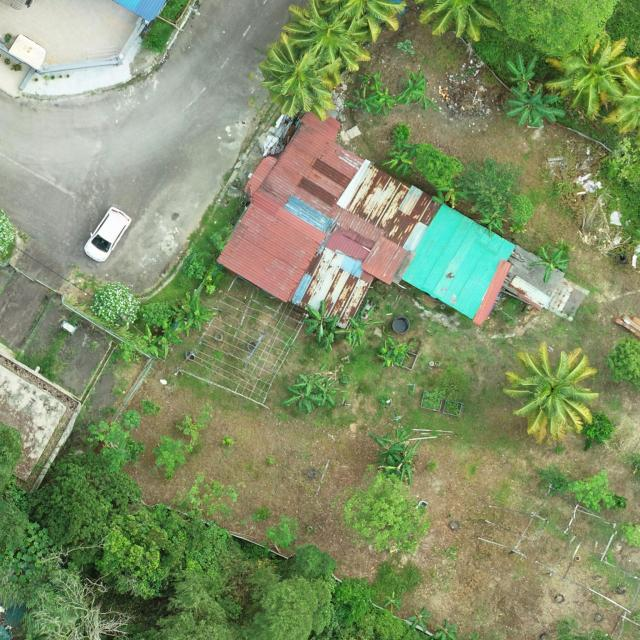Tree: (0, 532, 141, 640), (148, 565, 334, 640), (27, 450, 141, 566), (502, 341, 600, 446), (94, 502, 188, 600), (545, 31, 639, 119), (489, 0, 622, 58), (259, 31, 343, 122), (343, 470, 432, 552), (281, 0, 375, 70), (454, 156, 525, 213), (318, 0, 408, 44), (413, 0, 505, 42), (333, 606, 438, 640), (186, 514, 245, 574), (170, 474, 238, 521), (368, 428, 423, 484), (598, 64, 640, 135), (86, 419, 146, 468), (507, 83, 566, 128), (413, 142, 466, 188), (334, 574, 379, 628), (278, 544, 337, 584), (90, 282, 142, 326), (334, 302, 384, 347), (567, 469, 618, 513), (175, 288, 218, 337), (395, 68, 440, 112), (152, 435, 187, 481), (529, 245, 571, 283), (607, 337, 640, 385), (280, 378, 324, 414), (381, 140, 419, 177), (506, 52, 539, 93), (304, 300, 335, 342), (266, 515, 300, 552), (376, 337, 416, 368), (580, 412, 617, 445), (182, 242, 214, 280), (138, 301, 179, 327), (431, 178, 470, 205), (158, 320, 185, 359), (479, 204, 508, 238), (317, 314, 341, 352), (344, 89, 380, 113), (293, 373, 327, 395), (314, 379, 337, 408), (143, 324, 162, 359), (407, 606, 432, 632), (374, 86, 395, 115), (433, 618, 459, 640), (382, 591, 403, 613), (121, 409, 142, 430), (359, 72, 383, 90), (392, 122, 411, 142)
